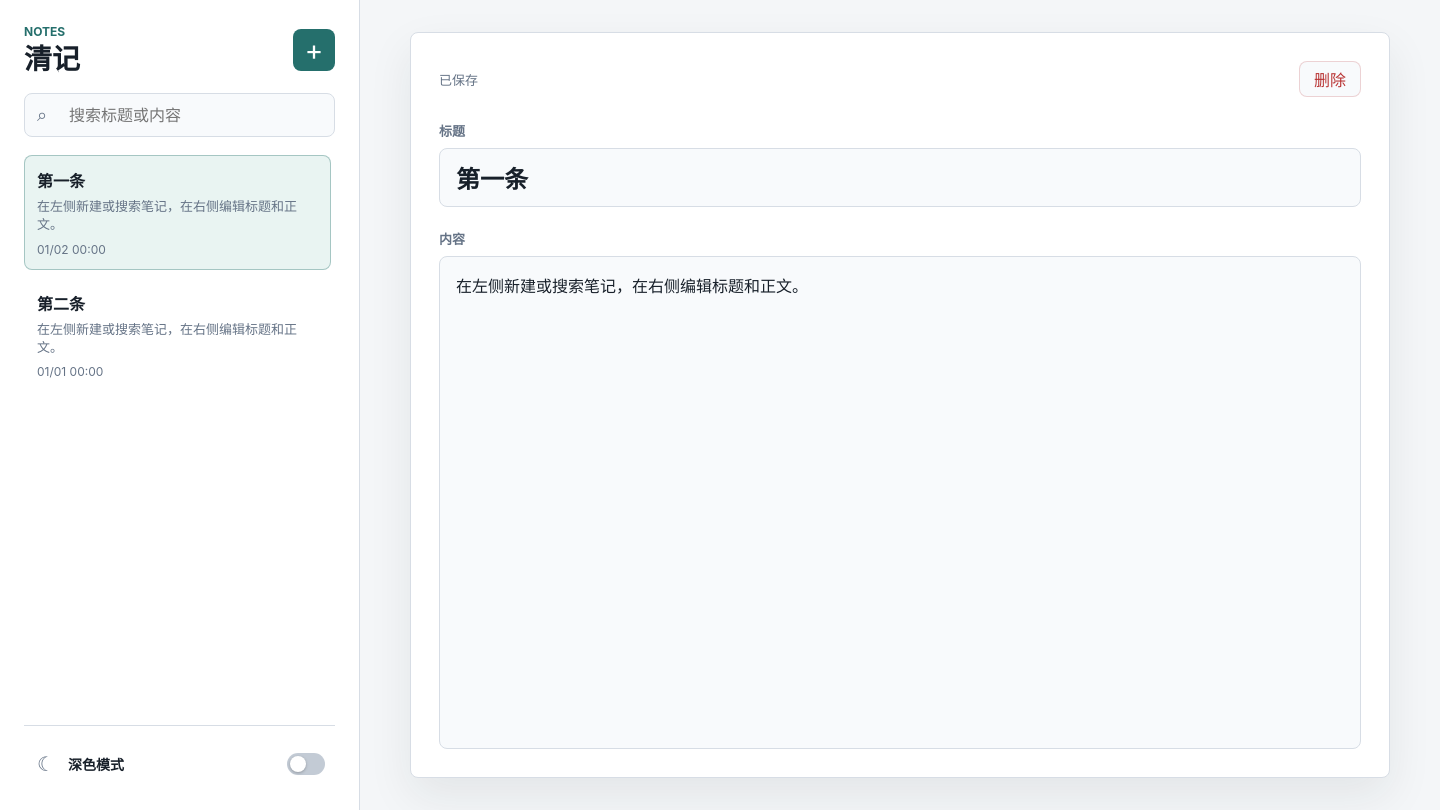
App › deletes the selected note after confirmation
The image size is (1440, 810).
Expected: the heading "清记" is shown, 24,43 -> 80,75
Click the button "删除" at (1330, 79), box 1299,61 -> 1361,97
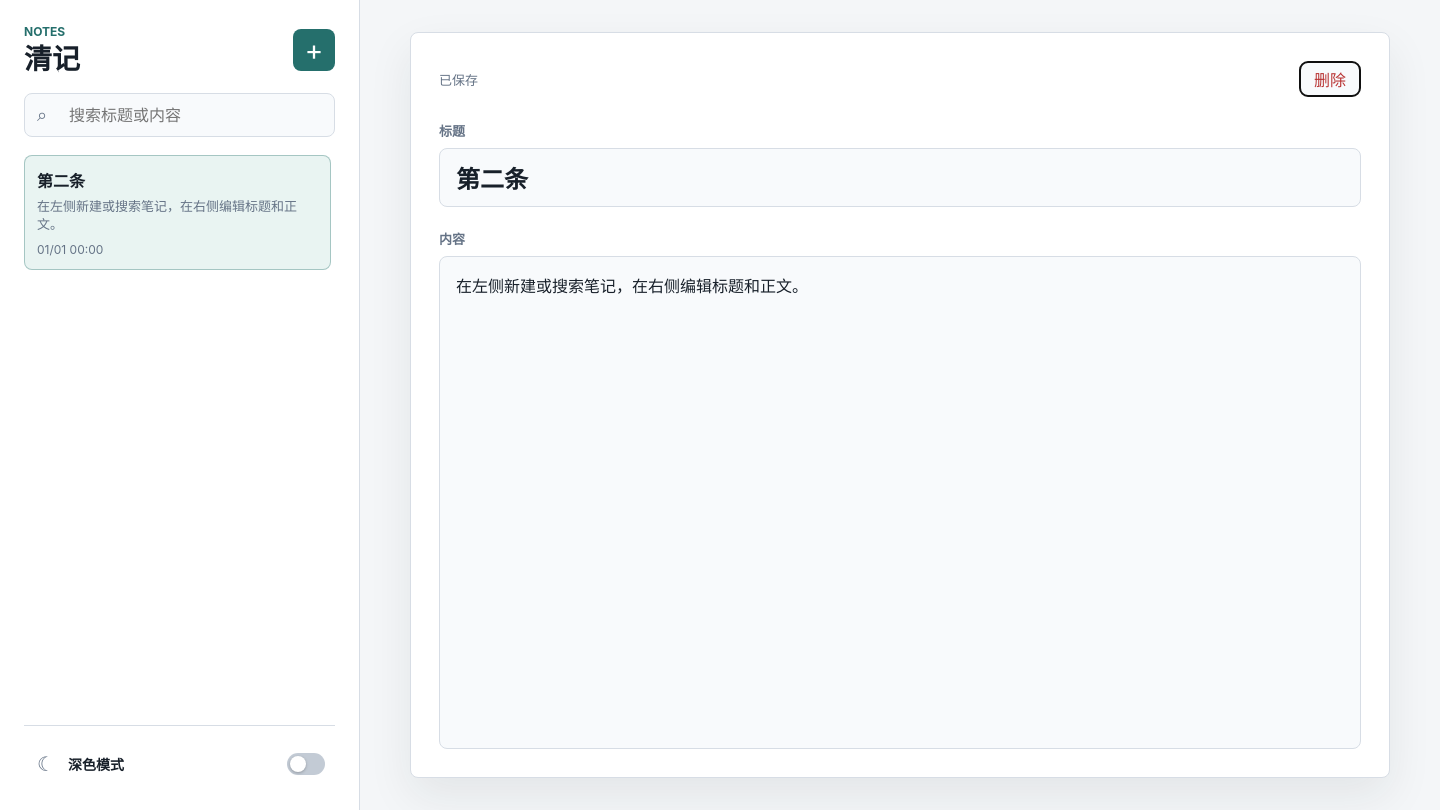
Expected: the button "第一条" is gone
